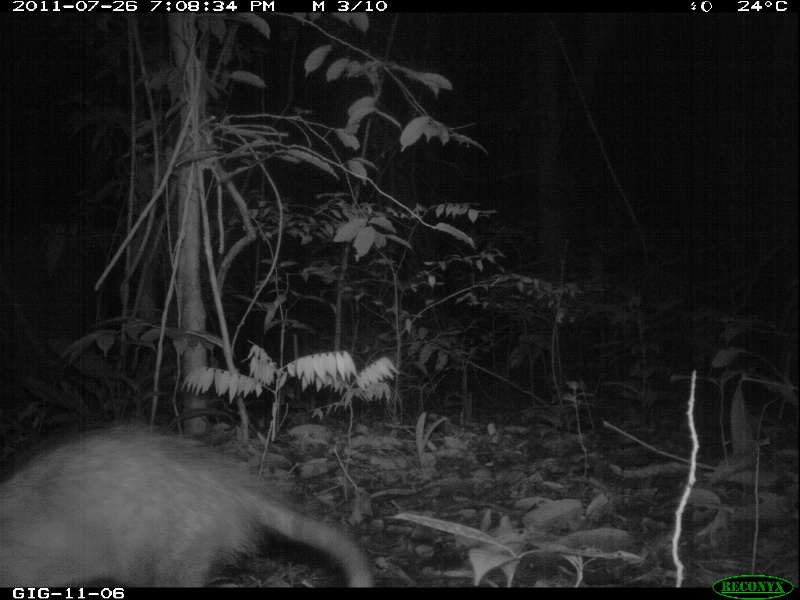opossum: (2, 427, 382, 586)
